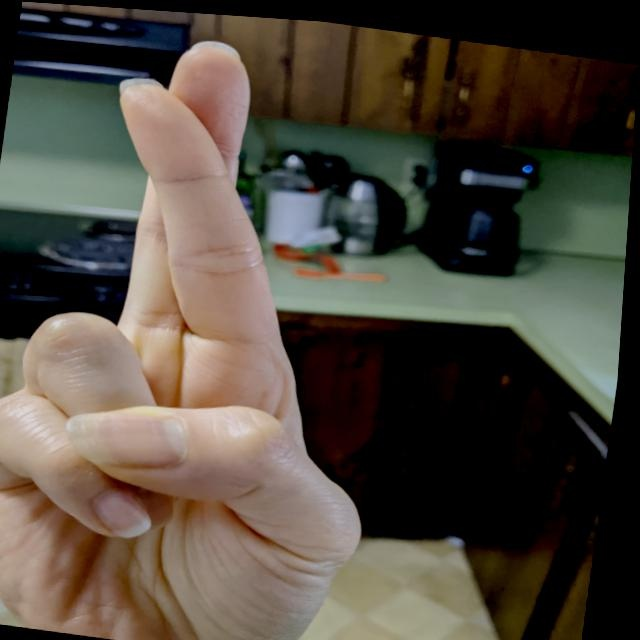R: (0, 7, 437, 639)
